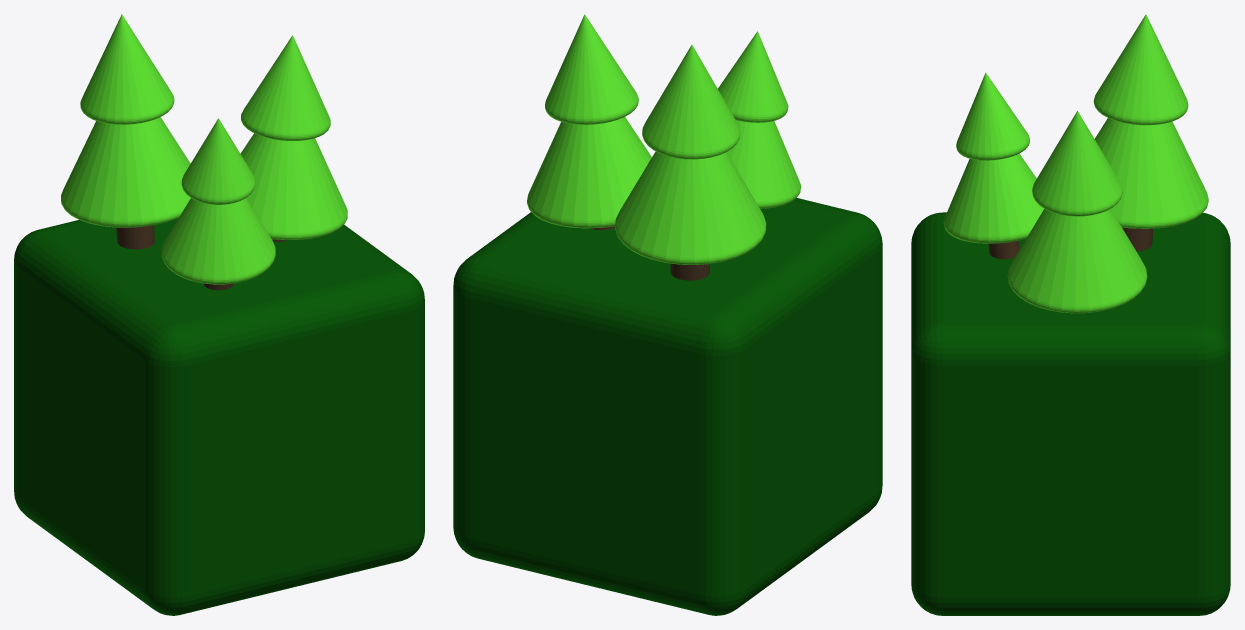
File: tile_forest.fbx
The picture shows the model from 3 angles, left to right: view 1: azimuth 30°, elevation 25°; view 2: azimuth 150°, elevation 25°; view 3: azimuth 270°, elevation 25°; orthographic projection. The views are drawn at different scales.
Visible parts, largest first — view 1: TileForest; view 2: TileForest; view 3: TileForest.
Part boxes in pixels (x1,y1,x2,y2): TileForest: (14,14,424,615); TileForest: (453,14,882,615); TileForest: (911,14,1230,615).
Bounding box in the file's own units: 1 × 1 × 1.78.
